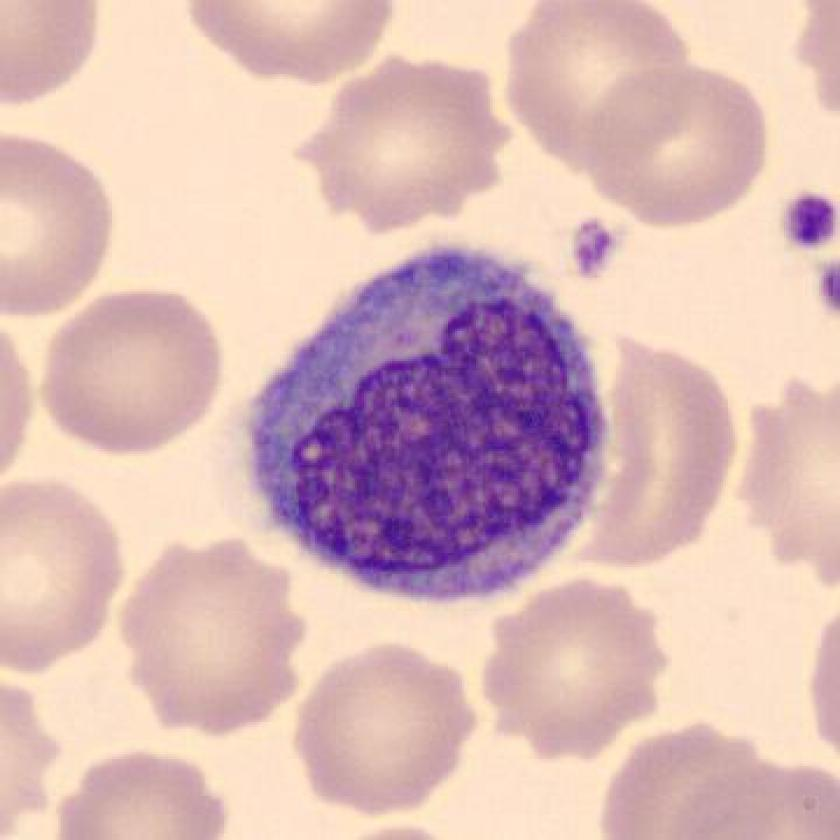monocyte: (225, 233, 622, 622)
